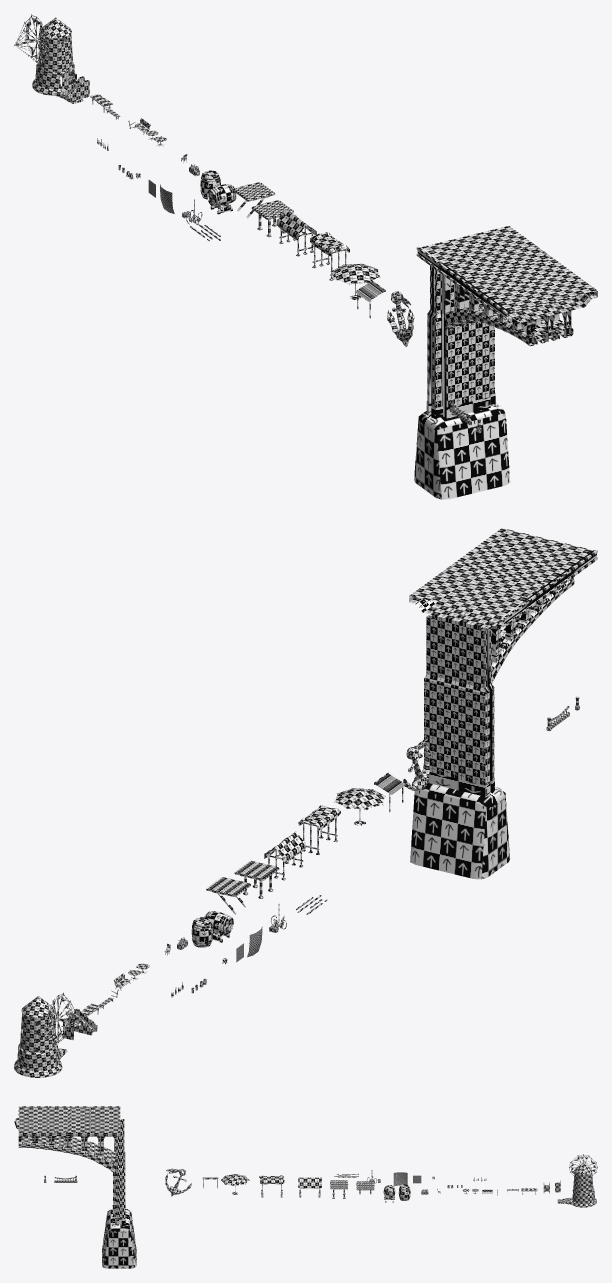
File: 05_bgprops_obj.fbx
The picture shows the model from 3 angles, top to bottom: view 1: azimuth 30°, elevation 25°; view 2: azimuth 150°, elevation 25°; view 3: azimuth 270°, elevation 25°; orthographic projection. The views are drawn at different scales.
Visible parts, largest first — view 1: _05_bridge_obj, _05_windmill_obj, _05_checkpoint_obj, _05_umbrella_obj, _05_storetriangle_obj, _05_storesquare_obj, _05_wing, _05_liquorbarrel_obj, _05_floor_obj; view 2: _05_bridge_obj, _05_windmill_obj, _05_umbrella_obj, _05_storesquare_obj, _05_storetriangle_obj, _05_wing, _05_checkpoint_obj, _05_floor_obj; view 3: _05_bridge_obj, _05_windmill_obj, _05_storetriangle_obj, _05_checkpoint_obj, _05_umbrella_obj, _05_storesquare_obj, _05_wing.
Boxes of the visible parts, box(x1,y1,x2,y2) form: _05_bridge_obj: box(414, 226, 597, 499); _05_windmill_obj: box(32, 17, 83, 103); _05_checkpoint_obj: box(387, 291, 414, 346); _05_umbrella_obj: box(331, 263, 380, 299); _05_storetriangle_obj: box(276, 209, 316, 256); _05_storesquare_obj: box(310, 232, 349, 280); _05_wing: box(14, 14, 49, 64); _05_liquorbarrel_obj: box(207, 184, 236, 214); _05_floor_obj: box(251, 200, 293, 237); _05_bridge_obj: box(409, 528, 597, 879); _05_windmill_obj: box(14, 996, 67, 1077); _05_umbrella_obj: box(334, 788, 385, 825); _05_storesquare_obj: box(298, 805, 340, 854); _05_storetriangle_obj: box(264, 831, 305, 880); _05_wing: box(44, 992, 81, 1045); _05_checkpoint_obj: box(403, 738, 431, 790); _05_floor_obj: box(234, 860, 279, 898); _05_bridge_obj: box(14, 1106, 136, 1268); _05_windmill_obj: box(557, 1163, 596, 1207); _05_storetriangle_obj: box(298, 1177, 321, 1197); _05_checkpoint_obj: box(165, 1168, 191, 1196); _05_umbrella_obj: box(221, 1174, 249, 1194); _05_storesquare_obj: box(259, 1175, 284, 1197); _05_wing: box(569, 1154, 597, 1175).
Size of the model in its own units: 95.76 by 202 by 765.
1 material, 1 textured.
